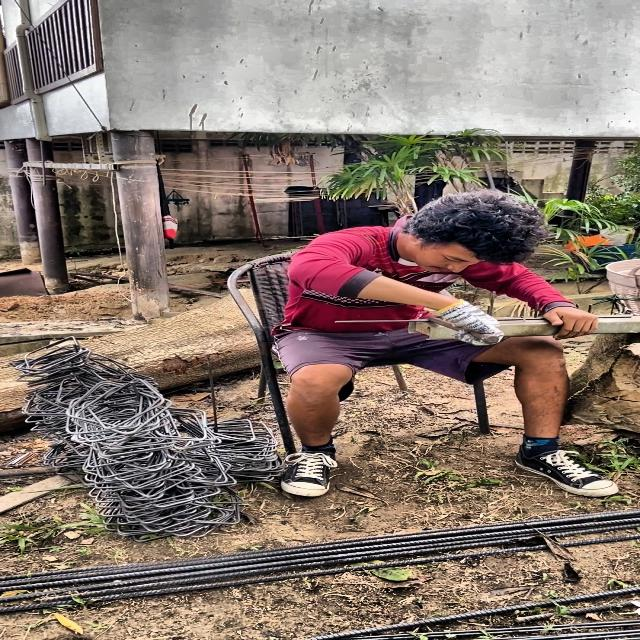gloved: (425, 290, 517, 354)
not-gloved: (541, 306, 621, 340)
